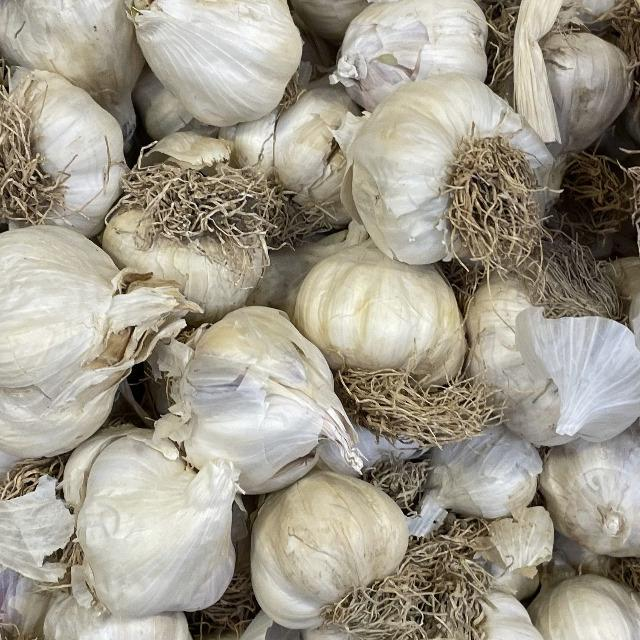garlic: (310, 60, 570, 288), (0, 200, 195, 422), (110, 0, 325, 140)
